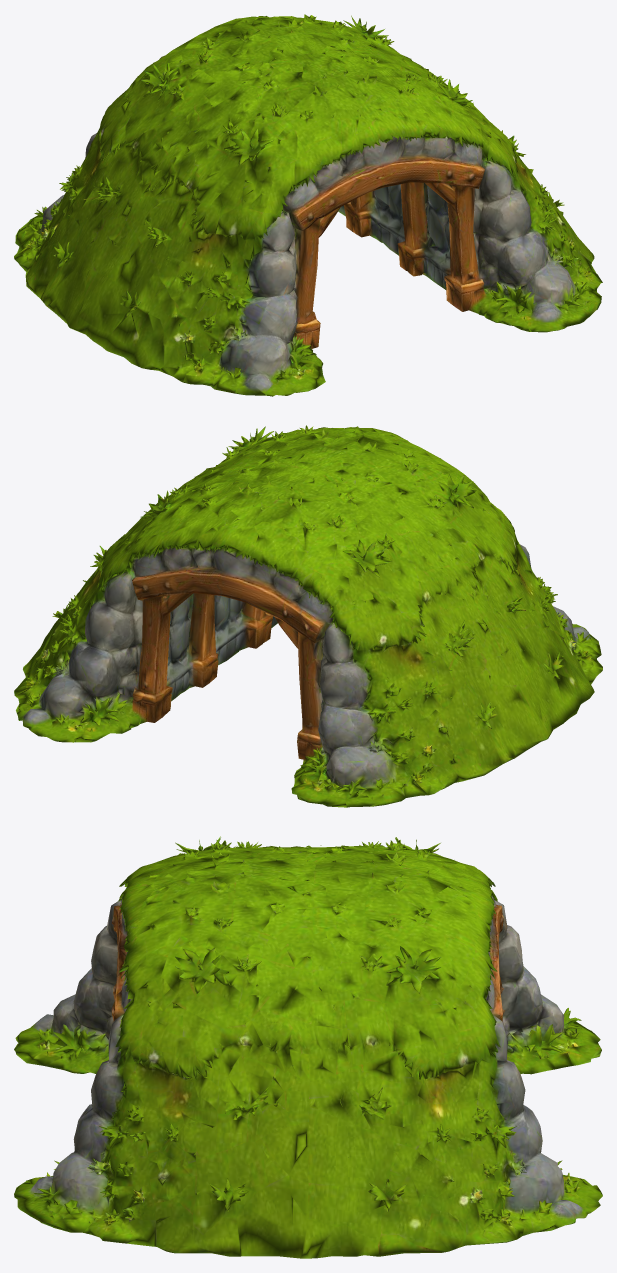
Rendered from Tunnel.glb.
3 renders of one model, top to bottom at view 1: azimuth 30°, elevation 25°; view 2: azimuth 150°, elevation 25°; view 3: azimuth 270°, elevation 25°, orthographic. The views are drawn at different scales.
Bounding box in the file's own units: 1.89 × 0.8258 × 1.72.
Materials: 1 (1 with a texture image).
